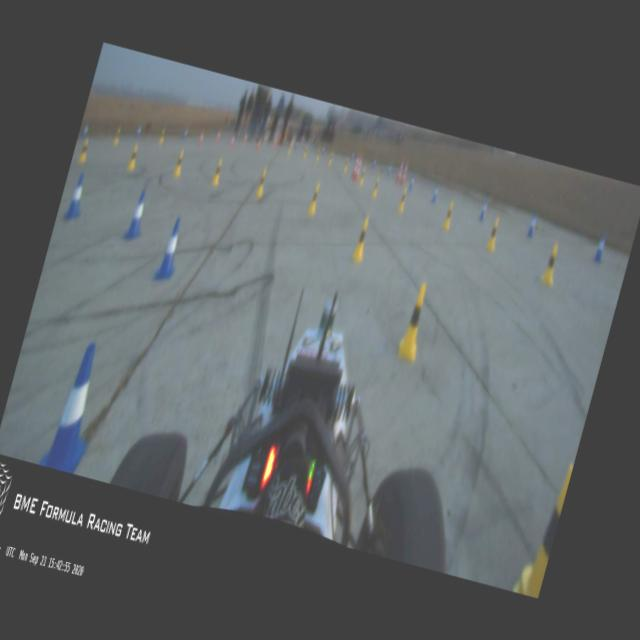blue_cone: (37, 336, 113, 474), (152, 212, 188, 282), (122, 188, 152, 242), (61, 171, 90, 223), (592, 231, 608, 262), (525, 210, 539, 238), (478, 195, 490, 221), (430, 182, 440, 204), (408, 171, 417, 190), (80, 122, 88, 140), (134, 122, 142, 140), (181, 127, 188, 141), (386, 162, 392, 175), (371, 158, 376, 170), (320, 145, 325, 155), (350, 150, 354, 161), (294, 140, 298, 150)
large_orange_cone: (352, 152, 364, 184), (350, 152, 360, 179), (398, 160, 409, 184), (394, 160, 404, 183)
orange_cone: (228, 133, 236, 148), (198, 130, 205, 144), (215, 128, 222, 142), (254, 138, 260, 152), (242, 132, 247, 143)
yellow_cone: (511, 456, 573, 597), (394, 280, 435, 363), (539, 240, 564, 288), (350, 215, 373, 263), (484, 218, 502, 254), (125, 141, 141, 172), (307, 182, 322, 214), (441, 200, 456, 232), (76, 136, 92, 163), (254, 168, 268, 197), (172, 148, 186, 177), (210, 157, 224, 185), (396, 186, 409, 212), (370, 175, 381, 198), (111, 125, 123, 146), (357, 166, 367, 186), (341, 155, 350, 174), (158, 126, 166, 146), (326, 149, 334, 165), (314, 146, 321, 162), (301, 144, 308, 160), (286, 140, 292, 156)
